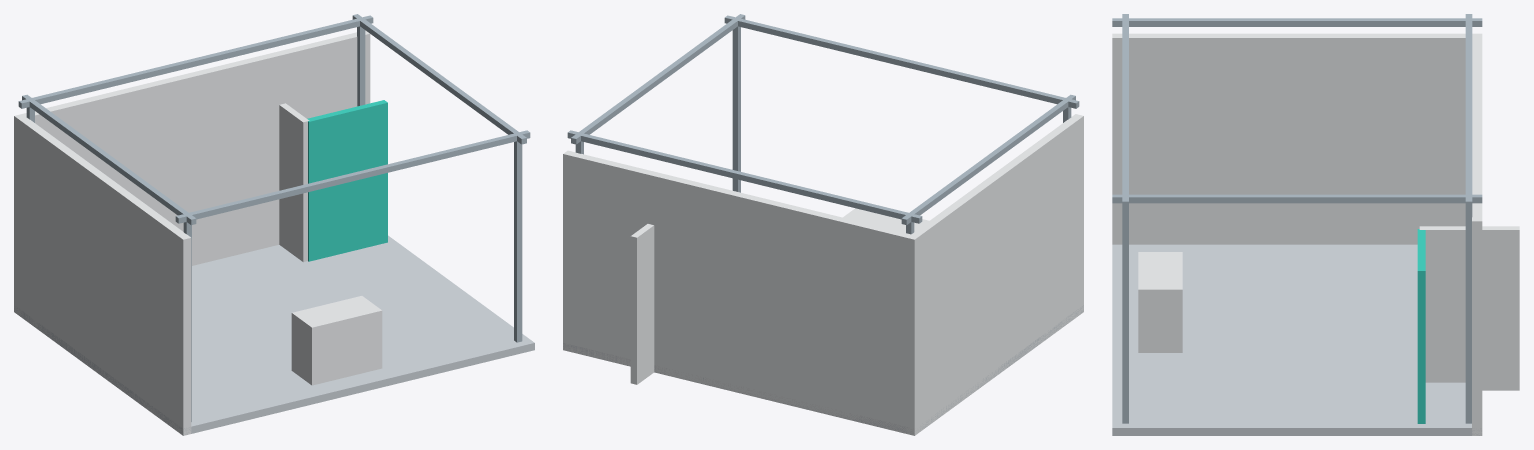
3 renders of one model, left to right at view 1: azimuth 30°, elevation 25°; view 2: azimuth 150°, elevation 25°; view 3: azimuth 270°, elevation 25°, orthographic. The views are drawn at different scales.
Parts seen in each view (by area): view 1: Exhibition Booth Concept; view 2: Exhibition Booth Concept; view 3: Exhibition Booth Concept.
Boxes of the visible parts, x1,y1,x2,y2 form: Exhibition Booth Concept: [14, 14, 534, 435]; Exhibition Booth Concept: [563, 14, 1083, 435]; Exhibition Booth Concept: [1112, 14, 1519, 435].
Size of the model in its own units: 6 by 3.49 by 5.51.
